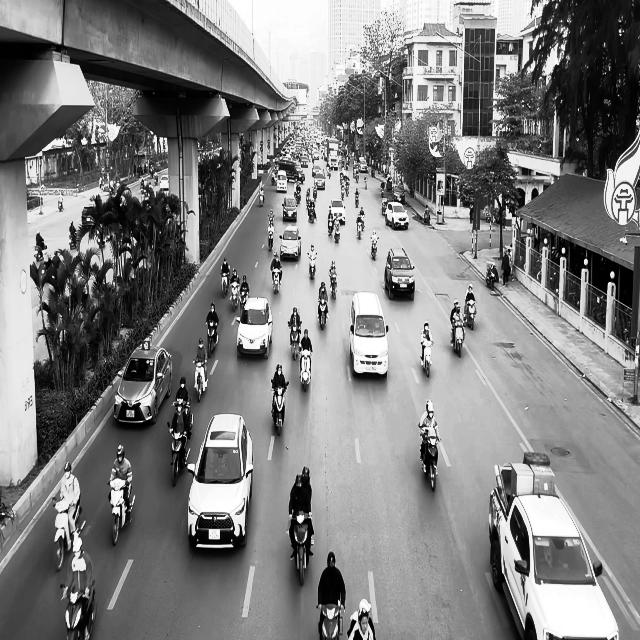car: (488, 456, 619, 639), (187, 412, 254, 550), (114, 344, 173, 426), (350, 291, 390, 377), (237, 296, 273, 359), (384, 247, 416, 300), (280, 225, 302, 259), (385, 202, 409, 230), (329, 199, 346, 224), (282, 196, 297, 221), (392, 184, 405, 203), (314, 170, 326, 190), (160, 174, 169, 192)
motorbike: (52, 496, 85, 571), (60, 580, 97, 640), (108, 479, 136, 546), (290, 510, 313, 586), (168, 421, 192, 487), (419, 425, 441, 491), (271, 379, 290, 436), (317, 602, 344, 639), (193, 358, 208, 402), (299, 347, 312, 391), (288, 322, 302, 360), (451, 322, 465, 358), (421, 340, 434, 377), (207, 321, 219, 356), (464, 301, 477, 330), (486, 262, 498, 289), (318, 299, 328, 330), (230, 281, 240, 310), (272, 267, 282, 293), (308, 252, 317, 280), (220, 272, 230, 297), (329, 272, 338, 299), (267, 225, 275, 251), (34, 242, 45, 260), (69, 230, 78, 250), (371, 236, 378, 260), (356, 218, 364, 239)
